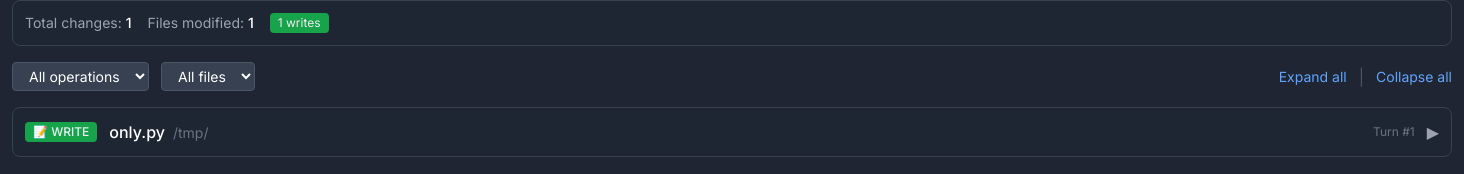
CodeDiffViewer › shows no matches message when filter excludes all
Filter by edit (which doesn't exist)
Select "Edits only" in the 1st dropdown showing "All operations": (80, 76) [12,62,149,91]
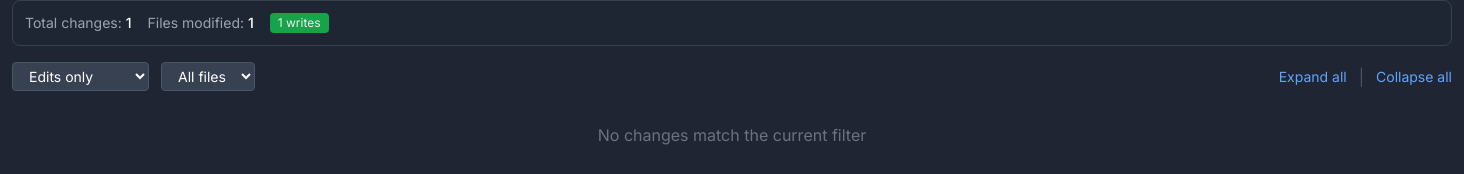
Now the text "No changes match the current filter" is shown, box [598,125,866,145]
